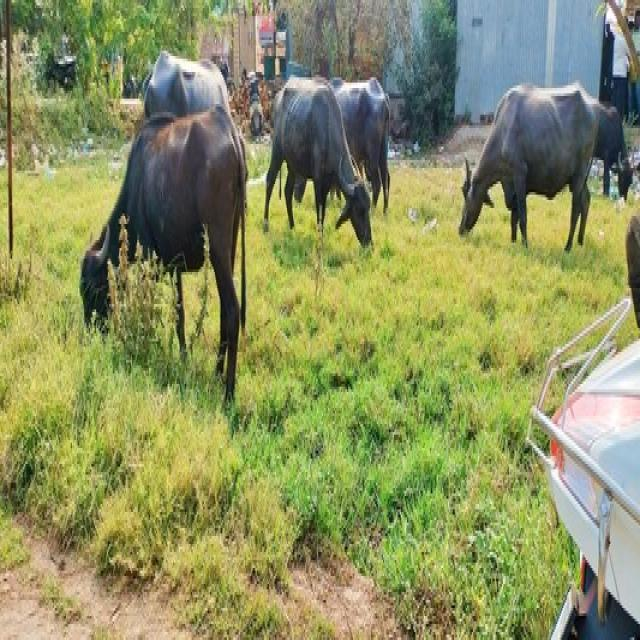Buffalo: (457, 84, 596, 255), (265, 81, 374, 252)
